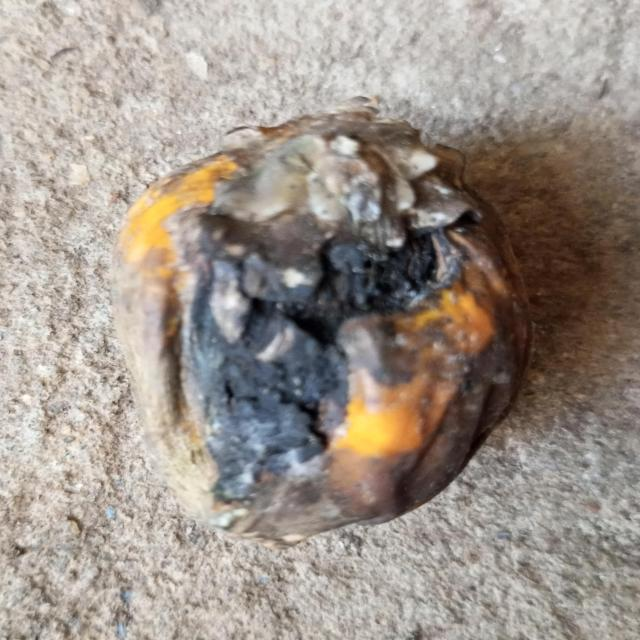damaged: (111, 98, 533, 550)
